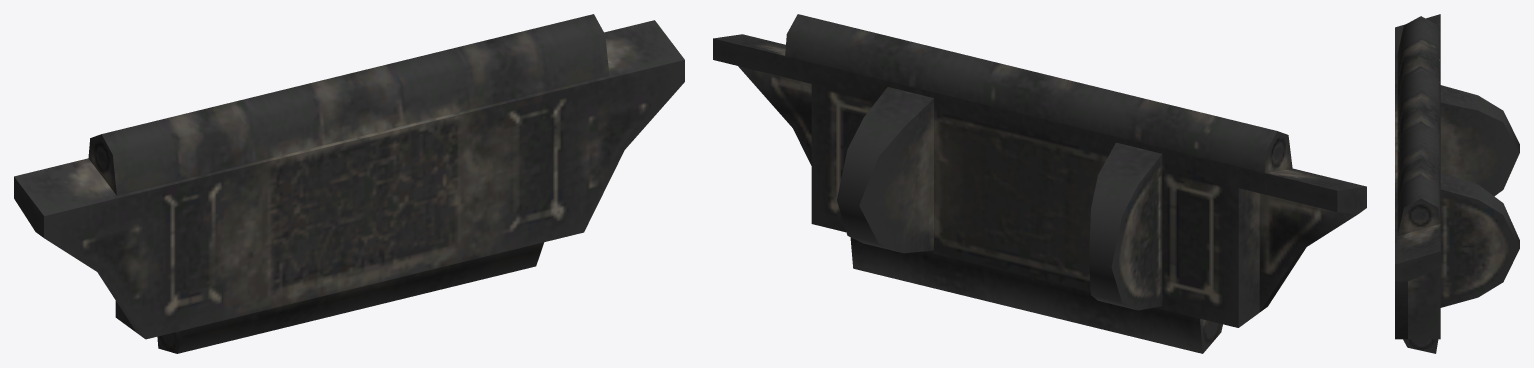
The picture shows the model from 3 angles, left to right: view 1: azimuth 30°, elevation 25°; view 2: azimuth 150°, elevation 25°; view 3: azimuth 270°, elevation 25°; orthographic projection. The views are drawn at different scales.
Visible parts, largest first — view 1: set_0_group_0; view 2: set_0_group_0; view 3: set_0_group_0.
Part boxes in pixels (<box>): set_0_group_0: <box>14,14,684,353</box>; set_0_group_0: <box>713,14,1366,353</box>; set_0_group_0: <box>1395,14,1519,353</box>.
Bounding box in the file's own units: 0.432 × 0.1532 × 0.0962.
1 material, 1 textured.
